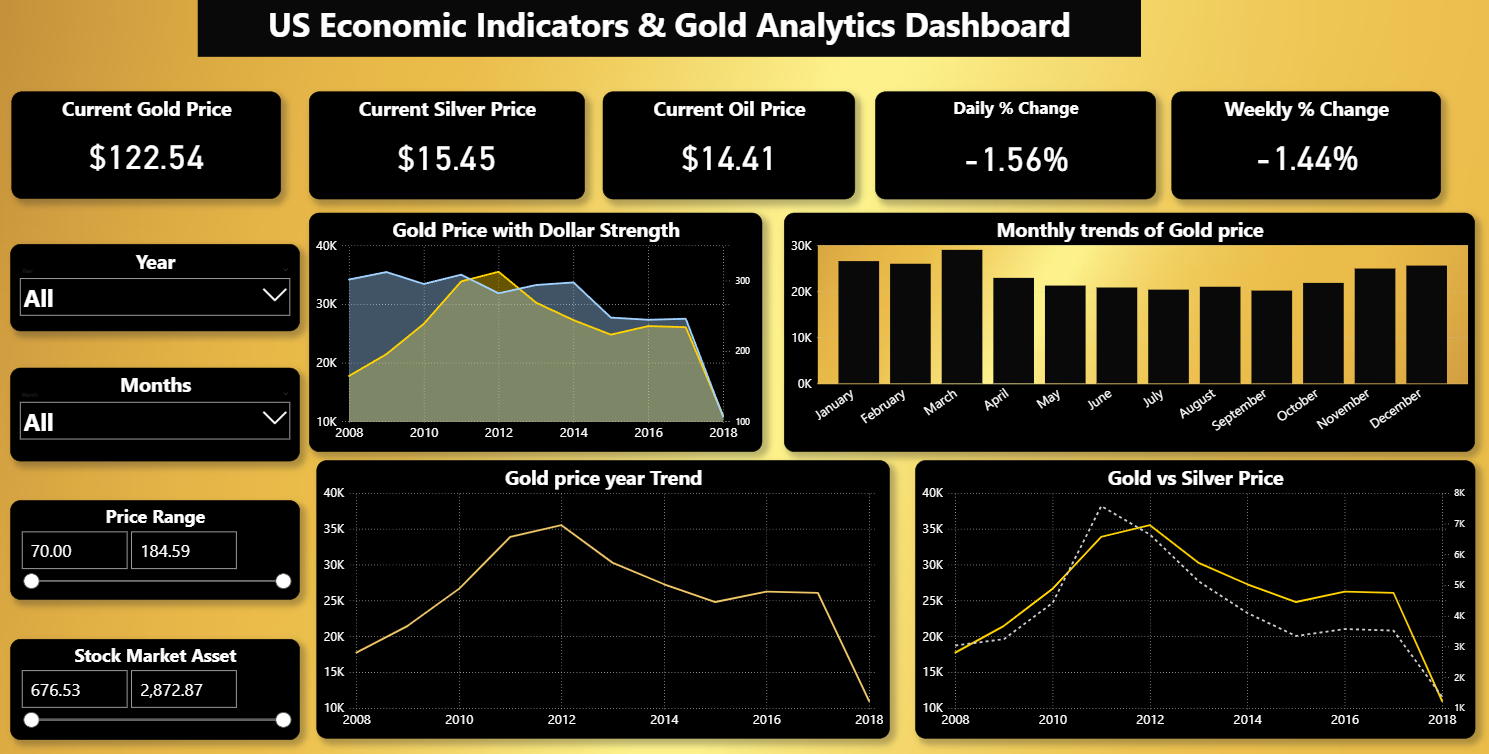

The dashboard page shown, as its layout file describes it:
{"tool":"powerbi","page":{"name":"Page 1","canvas":[3000,3000],"ordinal":0},"visuals":[{"type":"lineChart","title":"Gold price year Trend","fields":{"Category":["gold_Data.Date.Variation.Date Hierarchy.Year"],"Y":["Sum(gold_Data.Gold Price)"]},"box":[518,754,936,454],"z":0},{"type":"lineChart","title":"Gold vs Silver Price","fields":{"Category":["gold_Data.Date.Variation.Date Hierarchy.Year"],"Y":["Sum(gold_Data.Gold Price)"],"Y2":["Sum(gold_Data.Silver Price)"]},"box":[1496,754,914,454],"z":1000},{"type":"clusteredColumnChart","title":"Monthly trends of Gold price","fields":{"Y":["Sum(gold_Data.Gold Price)"],"Category":["gold_Data.Date.Variation.Date Hierarchy.Month"]},"box":[1282,348,1128,390],"z":2000},{"type":"card","title":"Current Oil Price","fields":{"Values":["gold_Data.Current USO Price"]},"box":[986,150,412,176],"z":3000},{"type":"card","title":"Current Gold Price ","fields":{"Values":["gold_Data.Current Gold price"]},"box":[18,150,440,176],"z":4000},{"type":"textbox","box":[324,0,1540,94],"z":5000},{"type":"card","title":"Current Silver Price","fields":{"Values":["gold_Data.Current Silver price"]},"box":[506,150,450,176],"z":6000},{"type":"card","title":"Daily % Change ","fields":{"Values":["gold_Data.Daily % Change (GLD)"]},"box":[1430,150,458,176],"z":7000},{"type":"areaChart","title":"Gold Price with Dollar Strength","fields":{"Category":["gold_Data.Date.Variation.Date Hierarchy.Year"],"Y":["Sum(gold_Data.Gold Price)"],"Y2":["Sum(gold_Data.Currency Exchange Rate)"]},"box":[506,348,740,390],"z":8000},{"type":"slicer","title":"Year","fields":{"Values":["gold_Data.Date.Variation.Date Hierarchy.Year"]},"box":[18,372,472,142],"z":9000},{"type":"slicer","title":"Months","fields":{"Values":["gold_Data.Date.Variation.Date Hierarchy.Month"]},"box":[18,544,472,154],"z":10000},{"type":"slicer","title":"Price Range","fields":{"Values":["gold_Data.Gold Price"]},"box":[18,738,472,162],"z":10001},{"type":"slicer","title":"Stock Market Asset","fields":{"Values":["gold_Data.Stock market"]},"box":[18,962,472,166],"z":10002},{"type":"card","title":"Weekly % Change","fields":{"Values":["gold_Data.Weekly % Change (GLD)"]},"box":[1914,150,440,176],"z":10003}]}

Visuals, with their boxes on the page's 3000x3000 design canvas (x1, y1, x2, y2). These are canvas units, not pixel positions in the 1489x754 screenshot, which may show the page scaled, cropped or inside an application window:
"Gold price year Trend" lineChart: x1=518, y1=754, x2=1454, y2=1208
"Gold vs Silver Price" lineChart: x1=1496, y1=754, x2=2410, y2=1208
"Monthly trends of Gold price" clusteredColumnChart: x1=1282, y1=348, x2=2410, y2=738
"Current Oil Price" card: x1=986, y1=150, x2=1398, y2=326
"Current Gold Price " card: x1=18, y1=150, x2=458, y2=326
textbox: x1=324, y1=0, x2=1864, y2=94
"Current Silver Price" card: x1=506, y1=150, x2=956, y2=326
"Daily % Change " card: x1=1430, y1=150, x2=1888, y2=326
"Gold Price with Dollar Strength" areaChart: x1=506, y1=348, x2=1246, y2=738
"Year" slicer: x1=18, y1=372, x2=490, y2=514
"Months" slicer: x1=18, y1=544, x2=490, y2=698
"Price Range" slicer: x1=18, y1=738, x2=490, y2=900
"Stock Market Asset" slicer: x1=18, y1=962, x2=490, y2=1128
"Weekly % Change" card: x1=1914, y1=150, x2=2354, y2=326
